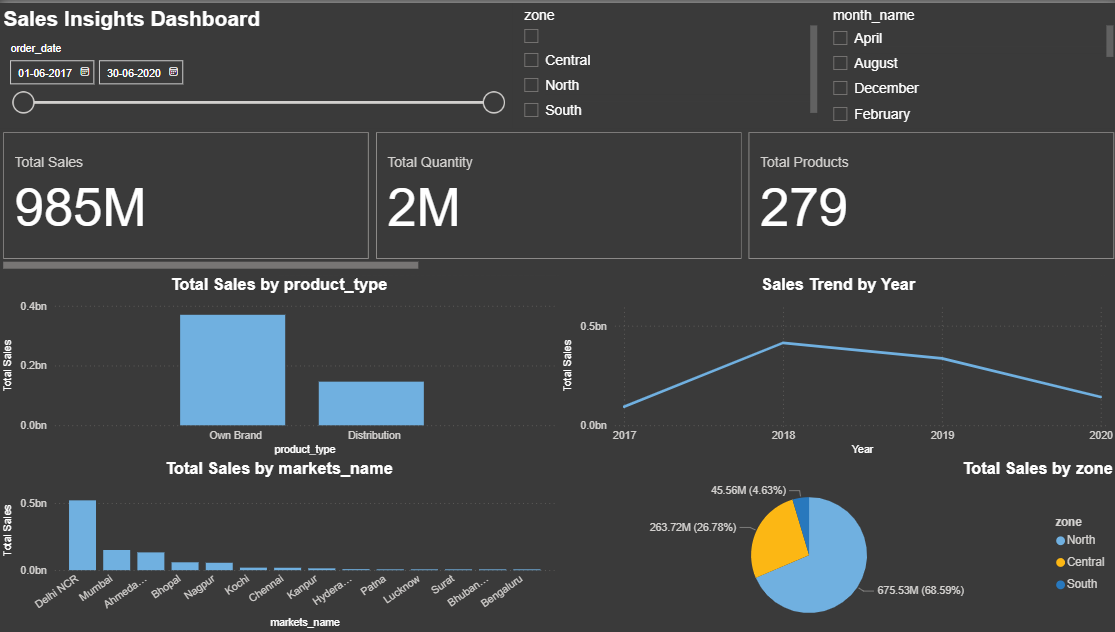

Layout of this report page (visuals, bound fields, positions):
{"tool":"powerbi","page":{"name":"Page 1","canvas":[1280,720],"ordinal":0},"visuals":[{"type":"cardVisual","fields":{"Data":["sales transactions.Total Sales","sales transactions.Total Quantity","sales transactions.Total Products","sales transactions.Total Customers","sales transactions.Avg Sales per Order","sales transactions.Prev Year Sales","sales transactions.Sales Growth %","sales transactions.Avg Sales per Customer"]},"box":[0,142.9,1280,168.6],"z":0},{"type":"lineChart","title":"Sales Trend by Year","fields":{"Category":["sales date.order_date.Variation.Date Hierarchy.Year","sales date.order_date.Variation.Date Hierarchy.Quarter","sales date.order_date.Variation.Date Hierarchy.Month","sales date.order_date.Variation.Date Hierarchy.Day"],"Y":["sales transactions.Total Sales"]},"box":[640,311.7,638.3,210],"z":1000},{"type":"columnChart","fields":{"Category":["sales markets.markets_name"],"Y":["sales transactions.Total Sales"]},"box":[0,521.4,640,198.6],"z":2000},{"type":"pieChart","fields":{"Category":["sales markets.zone"],"Y":["sales transactions.Total Sales"]},"box":[640.5,521.5,638,198.8],"z":3000},{"type":"columnChart","fields":{"Category":["sales products.product_type"],"Y":["sales transactions.Total Sales"]},"box":[0,311.7,640,210],"z":4000},{"type":"slicer","fields":{"Values":["sales date.order_date"]},"box":[0,40,587.1,102.9],"z":5000},{"type":"slicer","fields":{"Values":["sales markets.zone"]},"box":[587.1,0,352.9,142.9],"z":6000},{"type":"slicer","fields":{"Values":["sales date.month_name"]},"box":[940,0,338.6,142.9],"z":7000},{"type":"textbox","box":[0,0,587.1,40],"z":7001}]}

Visuals, with their boxes in screenshot pixels (x1, y1, x2, y2), scaled from the page's 1280x720 canvas onto the 1115x632 screenshot:
cardVisual - sales transactions.Total Sales x sales transactions.Total Quantity: pyautogui.locateOnScreen(0, 125, 1114, 273)
"Sales Trend by Year" lineChart: pyautogui.locateOnScreen(558, 274, 1114, 458)
columnChart - sales markets.markets_name x sales transactions.Total Sales: pyautogui.locateOnScreen(0, 458, 558, 631)
pieChart - sales markets.zone x sales transactions.Total Sales: pyautogui.locateOnScreen(558, 458, 1114, 631)
columnChart - sales products.product_type x sales transactions.Total Sales: pyautogui.locateOnScreen(0, 274, 558, 458)
slicer - sales date.order_date: pyautogui.locateOnScreen(0, 35, 511, 125)
slicer - sales markets.zone: pyautogui.locateOnScreen(511, 0, 819, 125)
slicer - sales date.month_name: pyautogui.locateOnScreen(819, 0, 1114, 125)
textbox: pyautogui.locateOnScreen(0, 0, 511, 35)
